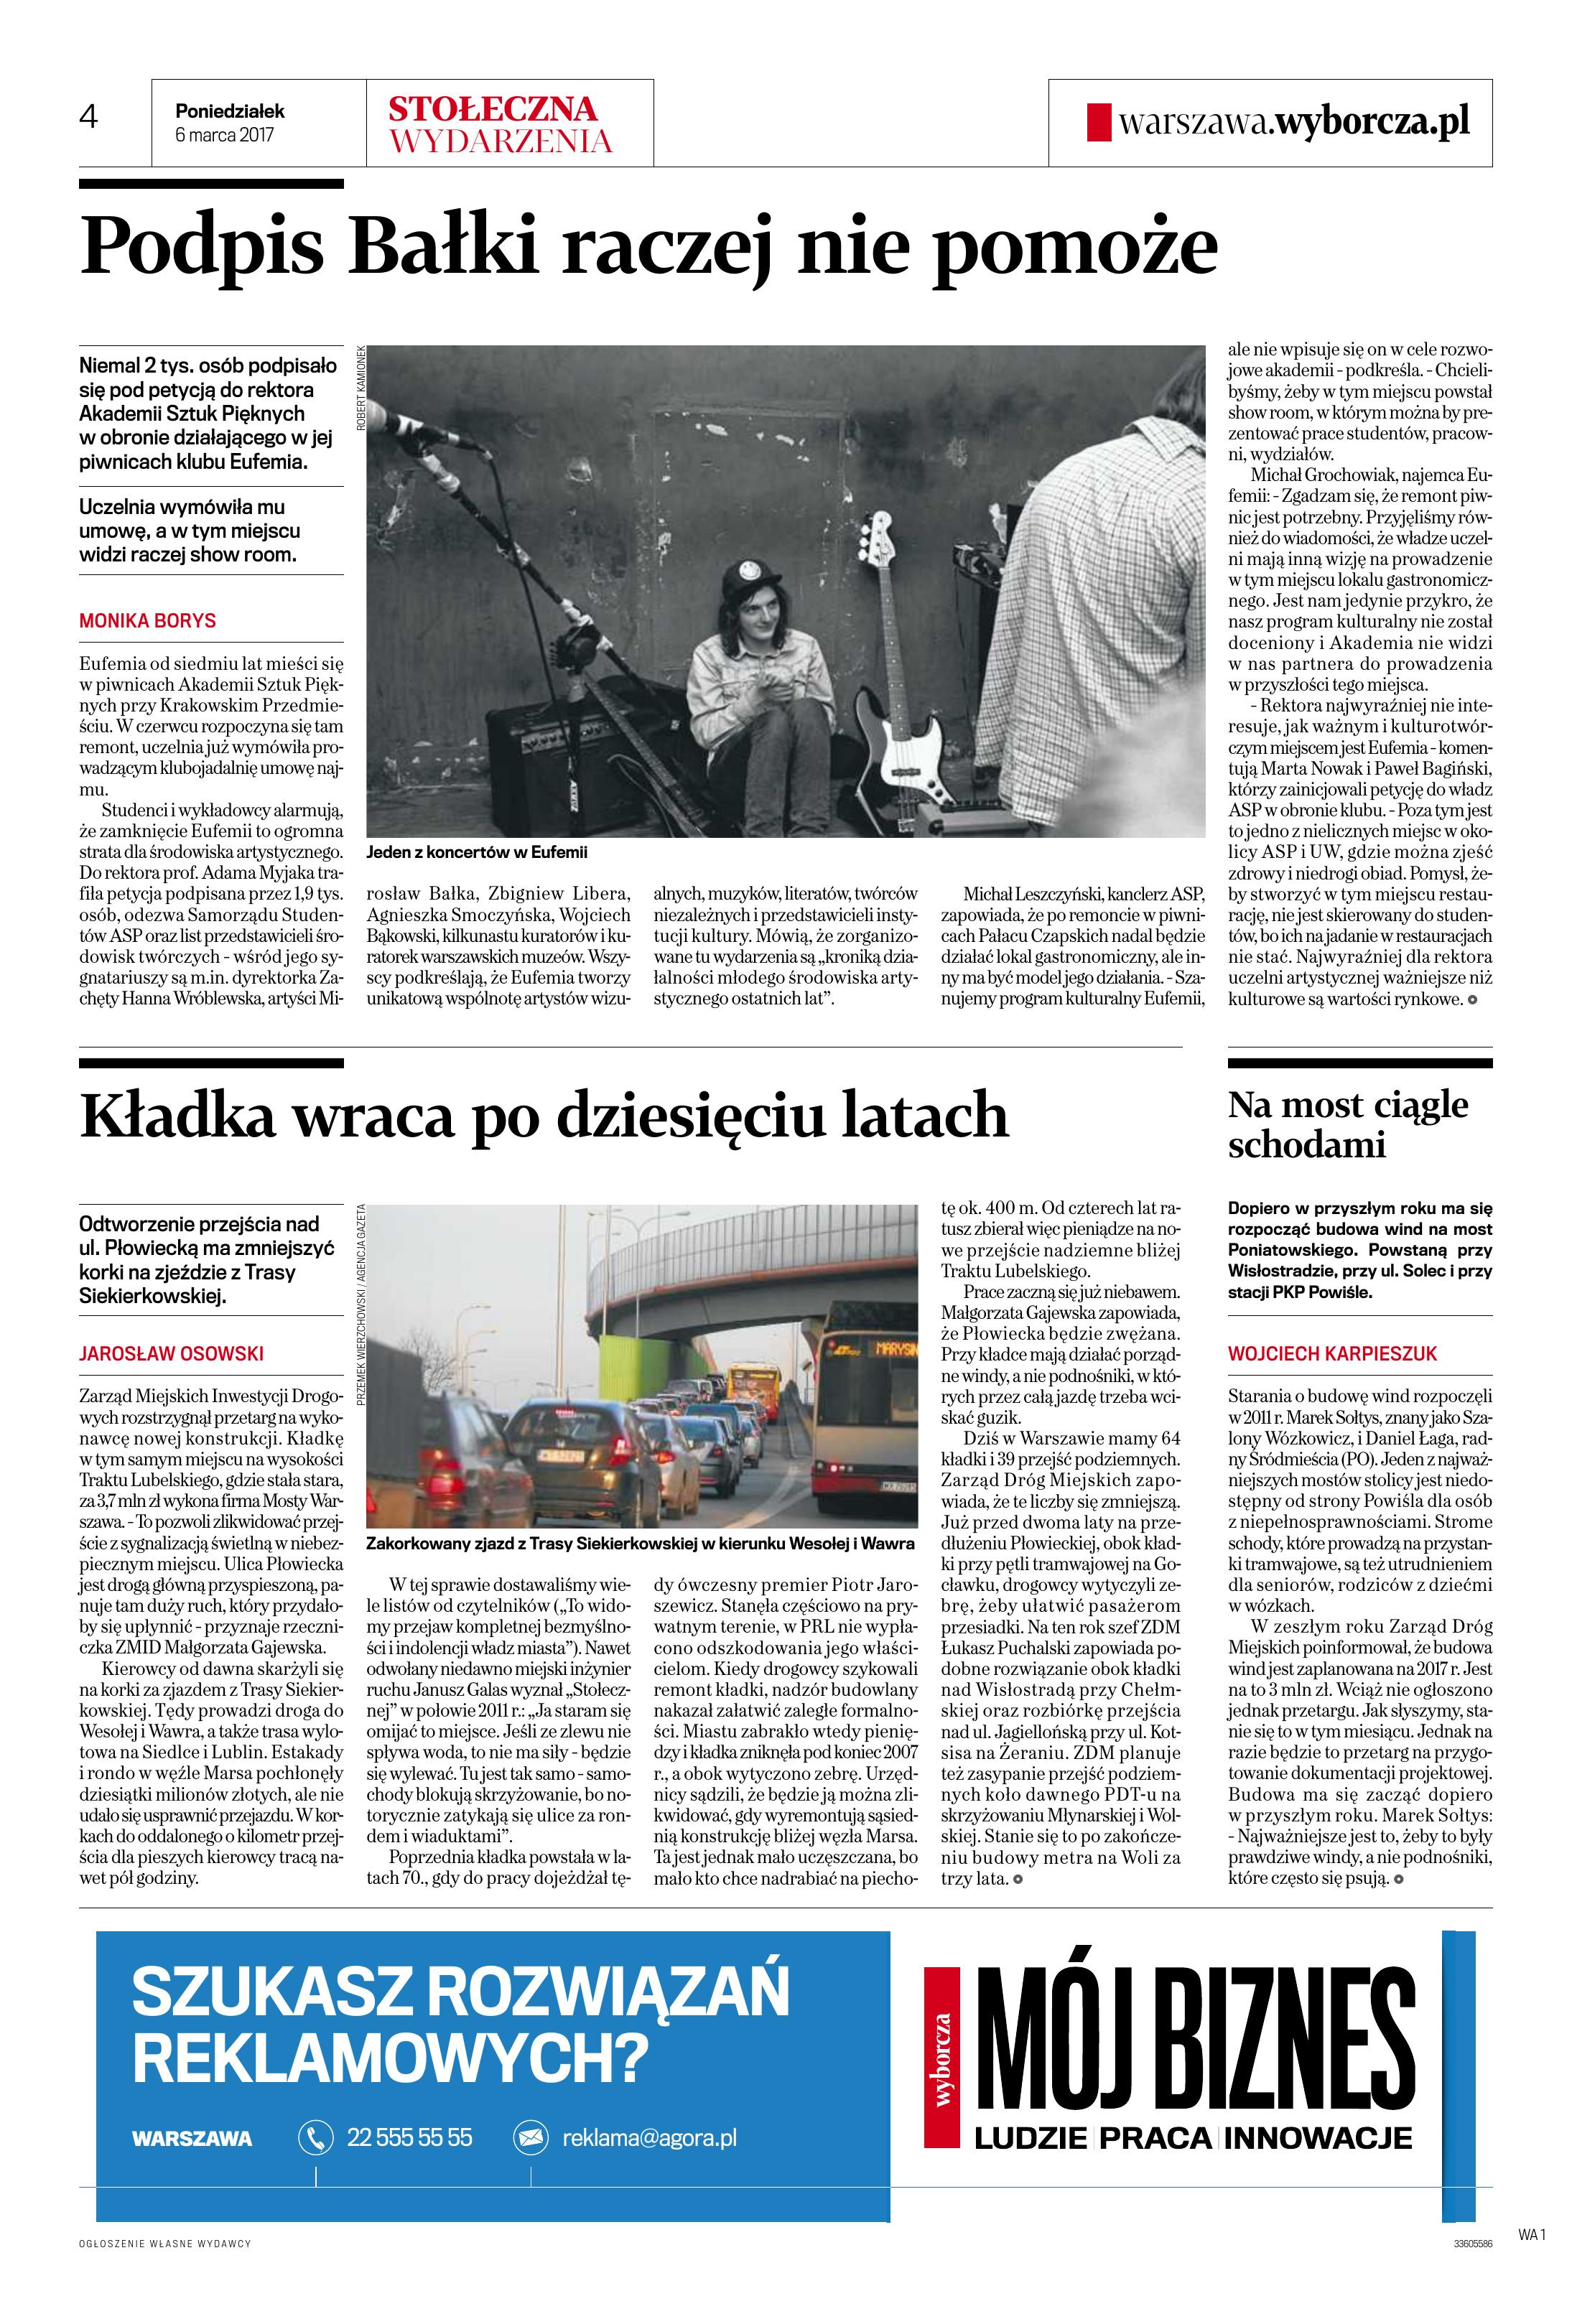article: (75, 172, 1509, 1030), (75, 1056, 1197, 1898), (1218, 1052, 1505, 1893)
